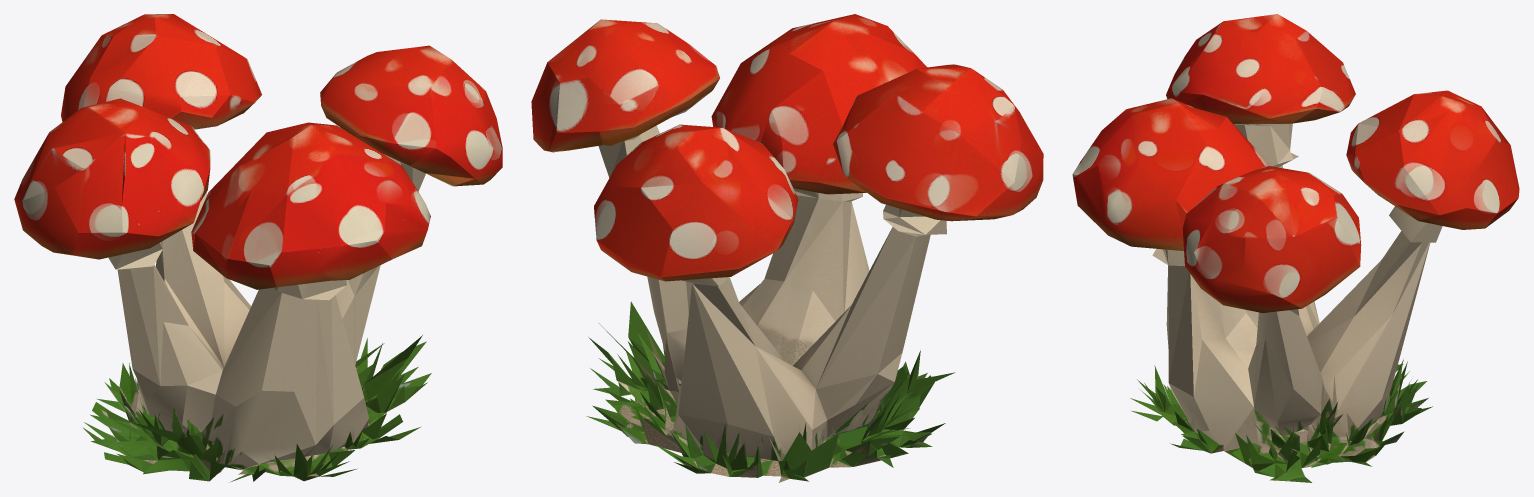
The model's file is mushrooms.glb.
3 renders of one model, left to right at view 1: azimuth 30°, elevation 25°; view 2: azimuth 150°, elevation 25°; view 3: azimuth 270°, elevation 25°, orthographic. The views are drawn at different scales.
Size of the model in its own units: 1.89 by 1.42 by 1.74.
Materials: 1 (1 with a texture image).
